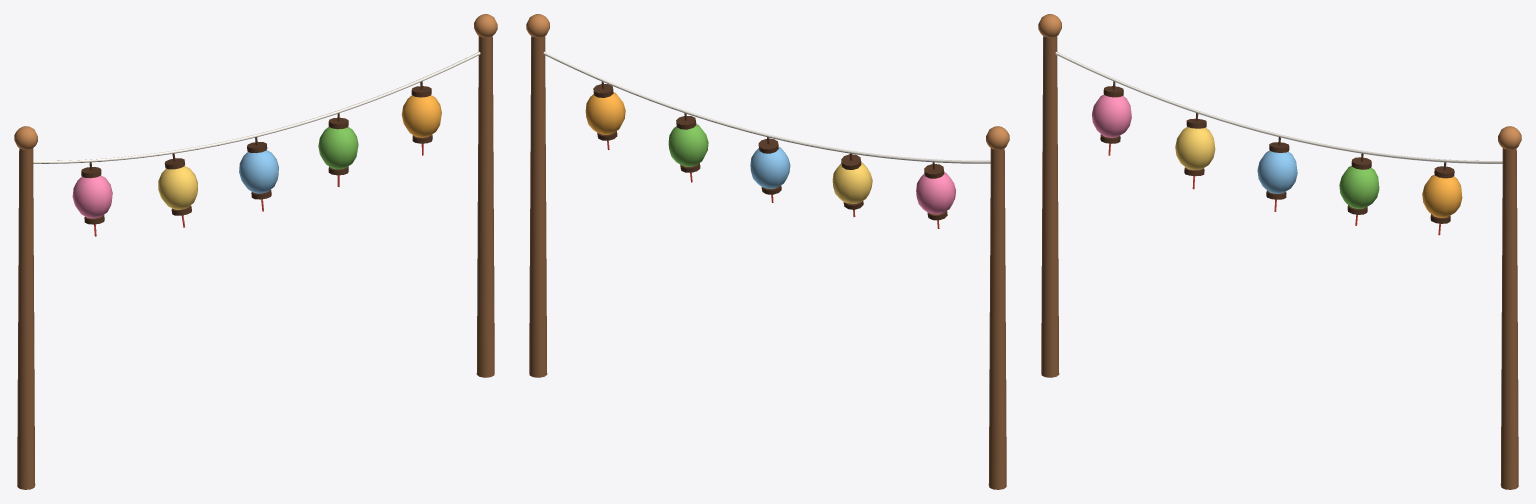
File: clothesline-lanterns.glb
The picture shows the model from 3 angles, left to right: view 1: azimuth 30°, elevation 25°; view 2: azimuth 150°, elevation 25°; view 3: azimuth 330°, elevation 25°; orthographic projection.
Bounding box in the file's own units: 2.72 × 1.94 × 0.2151.
